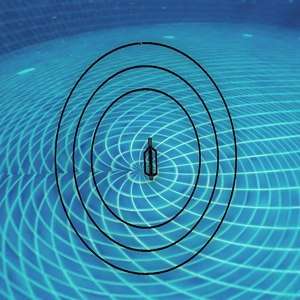circle: (37, 34, 239, 278)
submarine: (141, 139, 163, 180)
